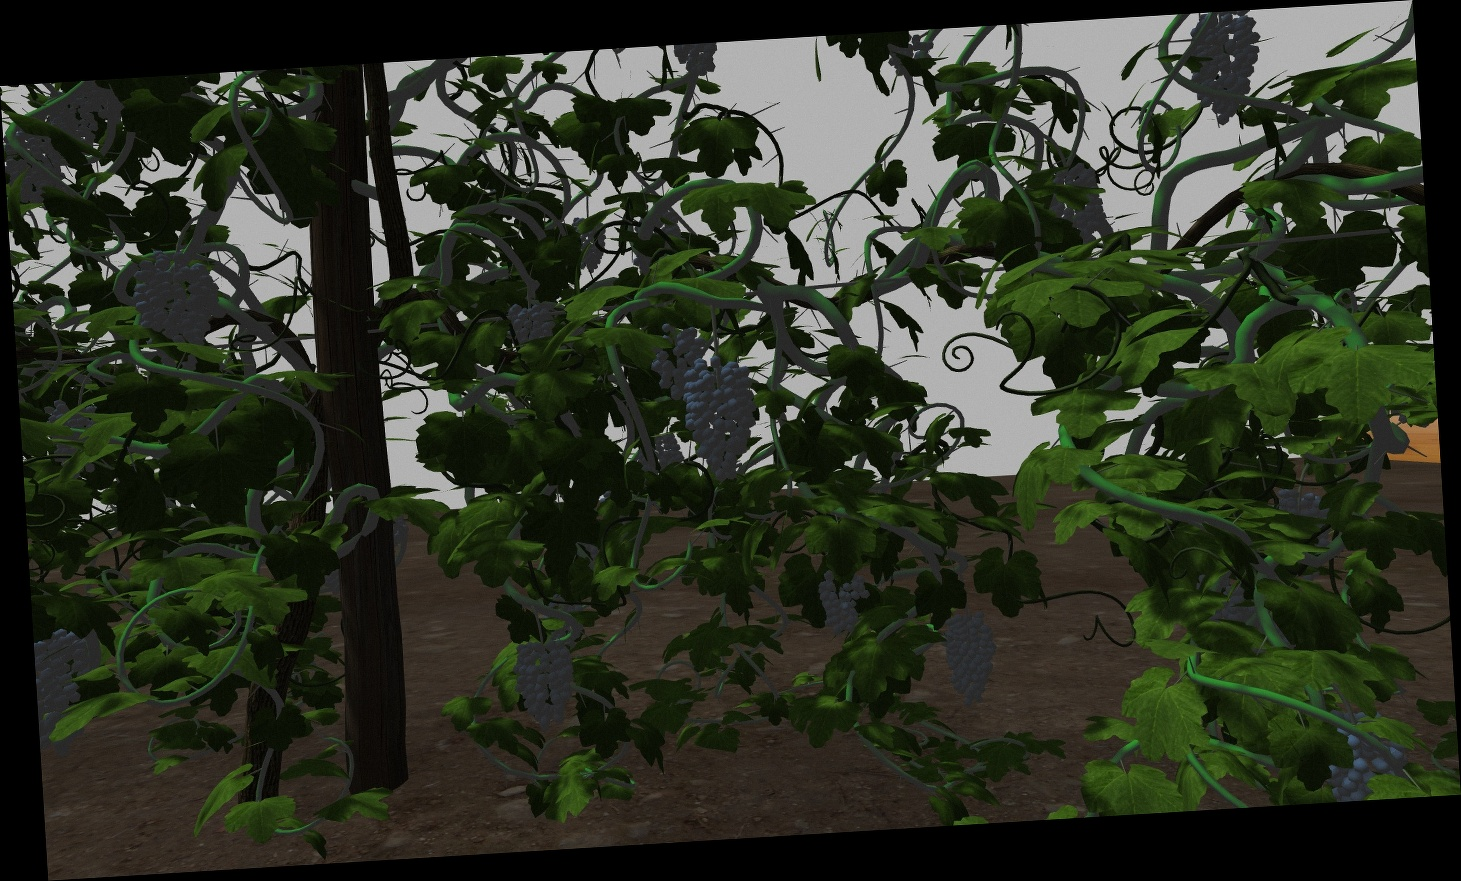grape: (682, 356, 756, 486), (130, 245, 219, 347), (1185, 17, 1264, 125), (513, 637, 579, 743), (935, 608, 997, 709), (40, 626, 91, 742), (648, 324, 703, 407), (815, 572, 872, 636), (505, 300, 556, 348)
